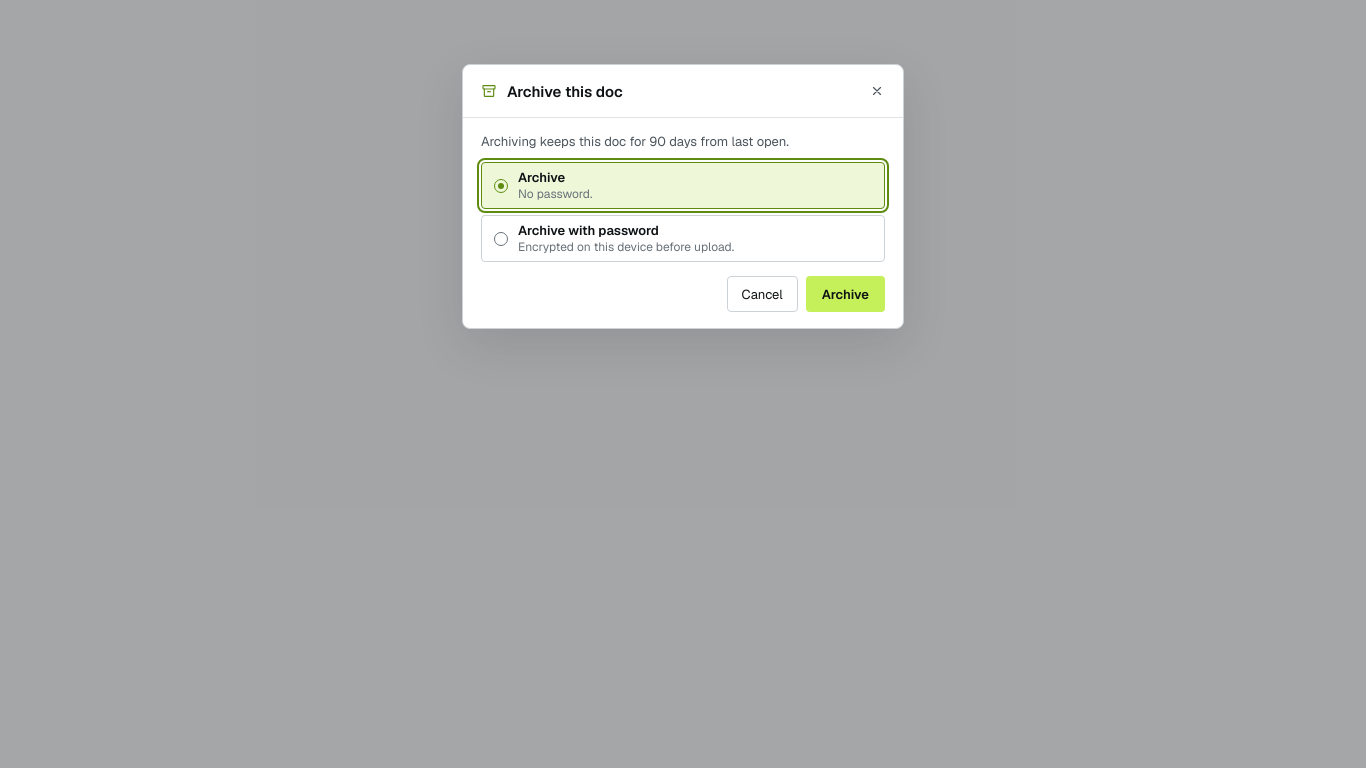
Scenario: SaveModal encrypt path with images › a rate limited upload shows the 429 copy and saves nothing
Step 1. Click the radio button labelled "Archive with password" → [683, 238], box [481,215,885,262]
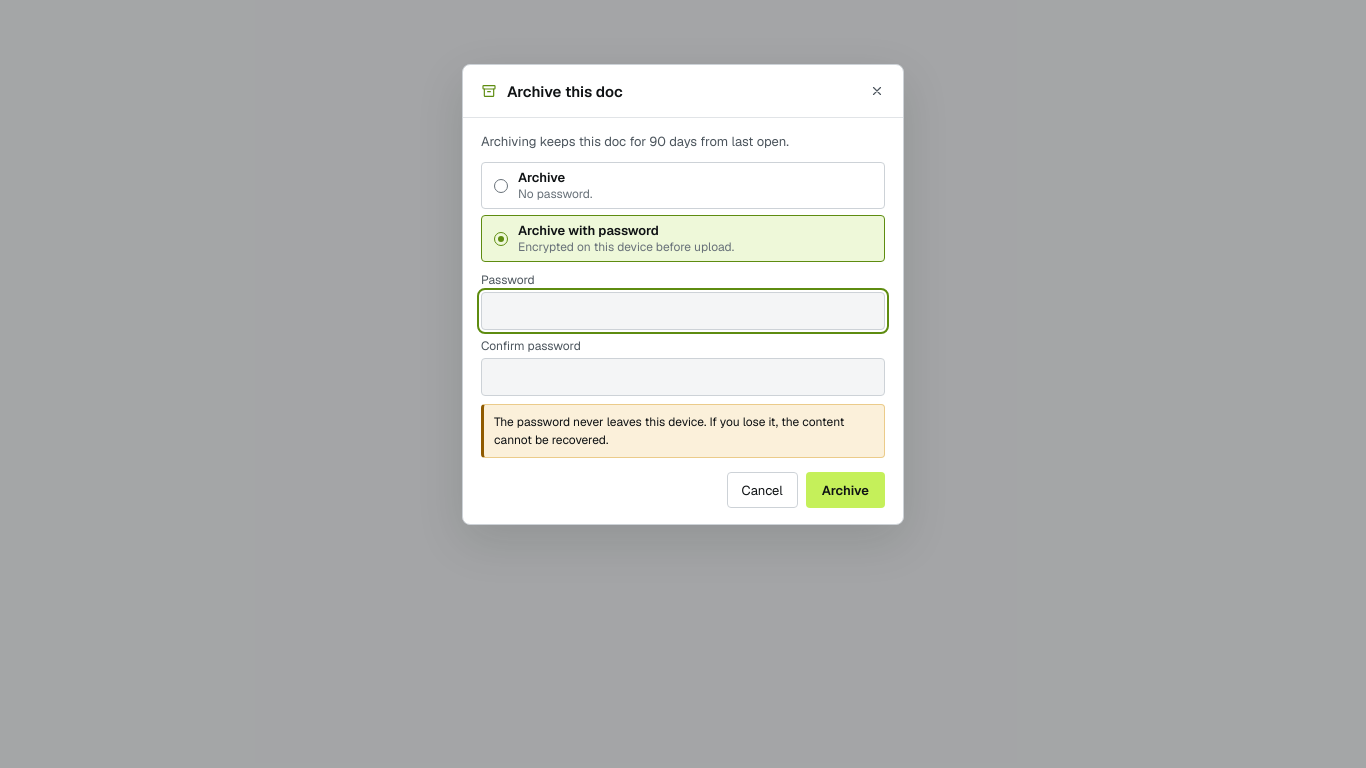
Step 2. Type "password123" into the password field labelled "Password" → [683, 311], box [481,292,885,330]
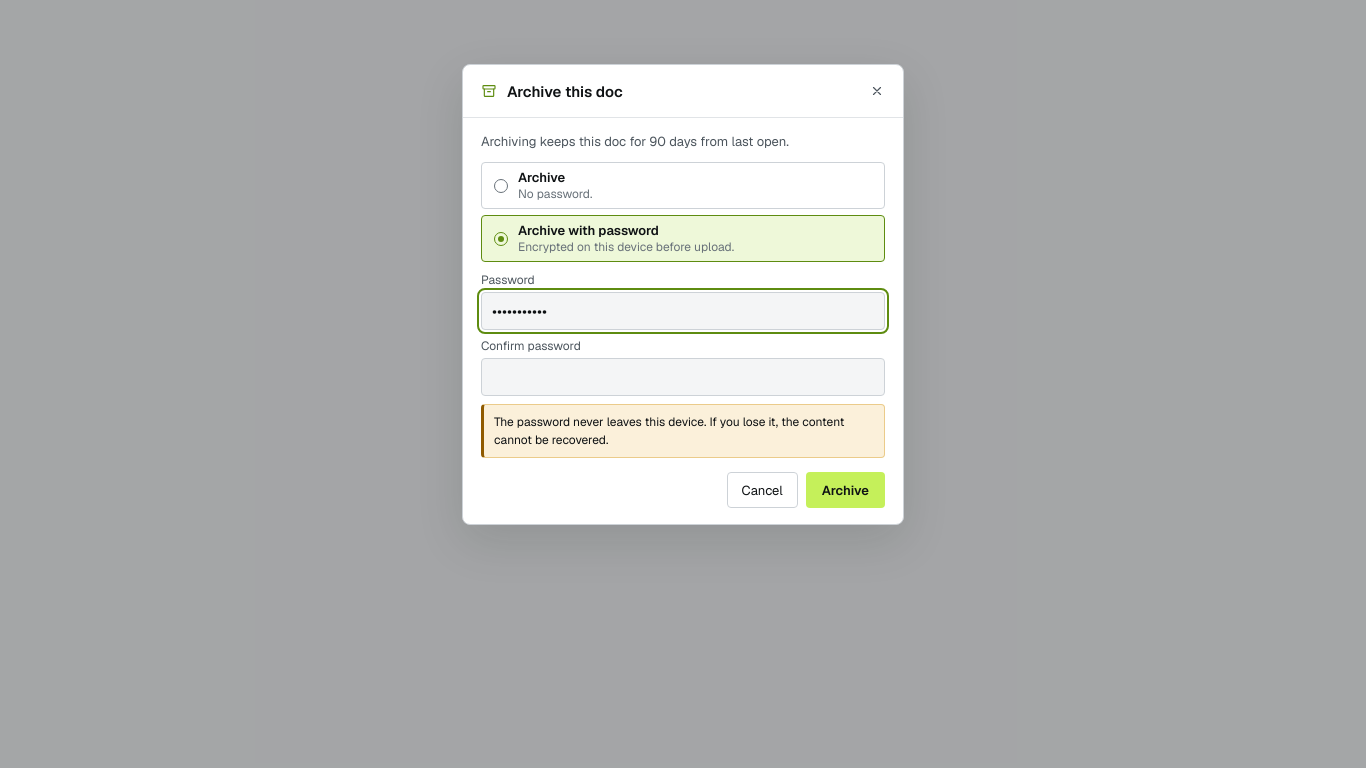
Step 3. Type "password123" into the password field labelled "Confirm password" → [683, 377], box [481,358,885,396]
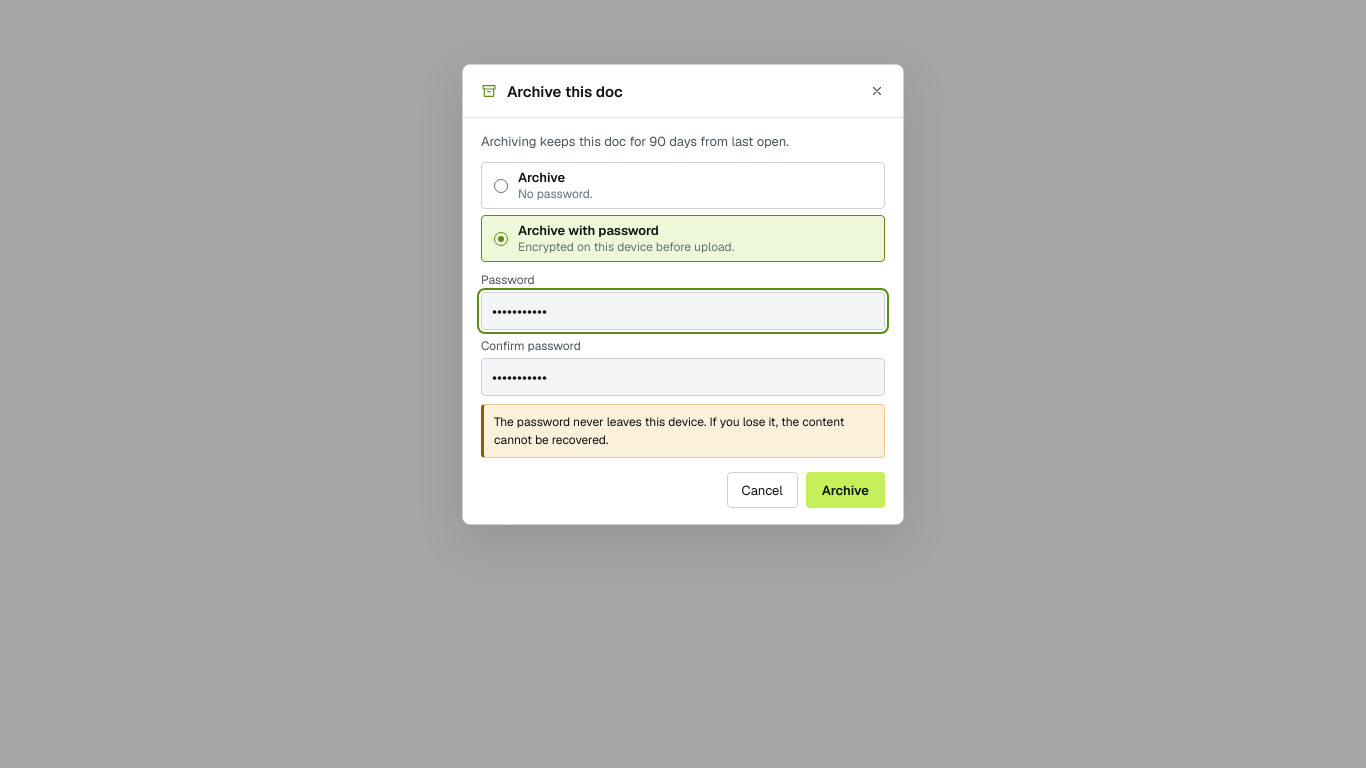
Step 4. Click the button "Archive" → [845, 490], box [806,472,885,508]
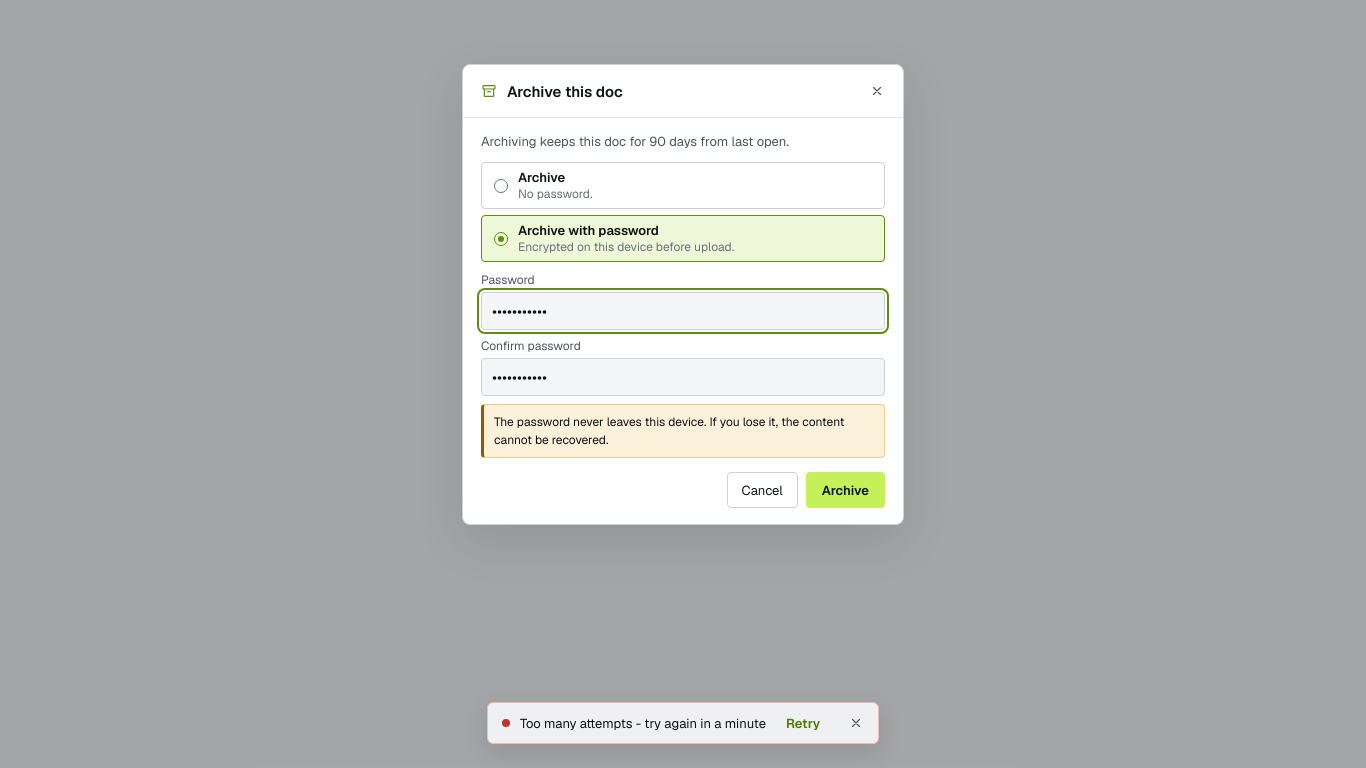
Check: the message shows "Too many attempts - try again in a minute", box [520,714,766,732]
